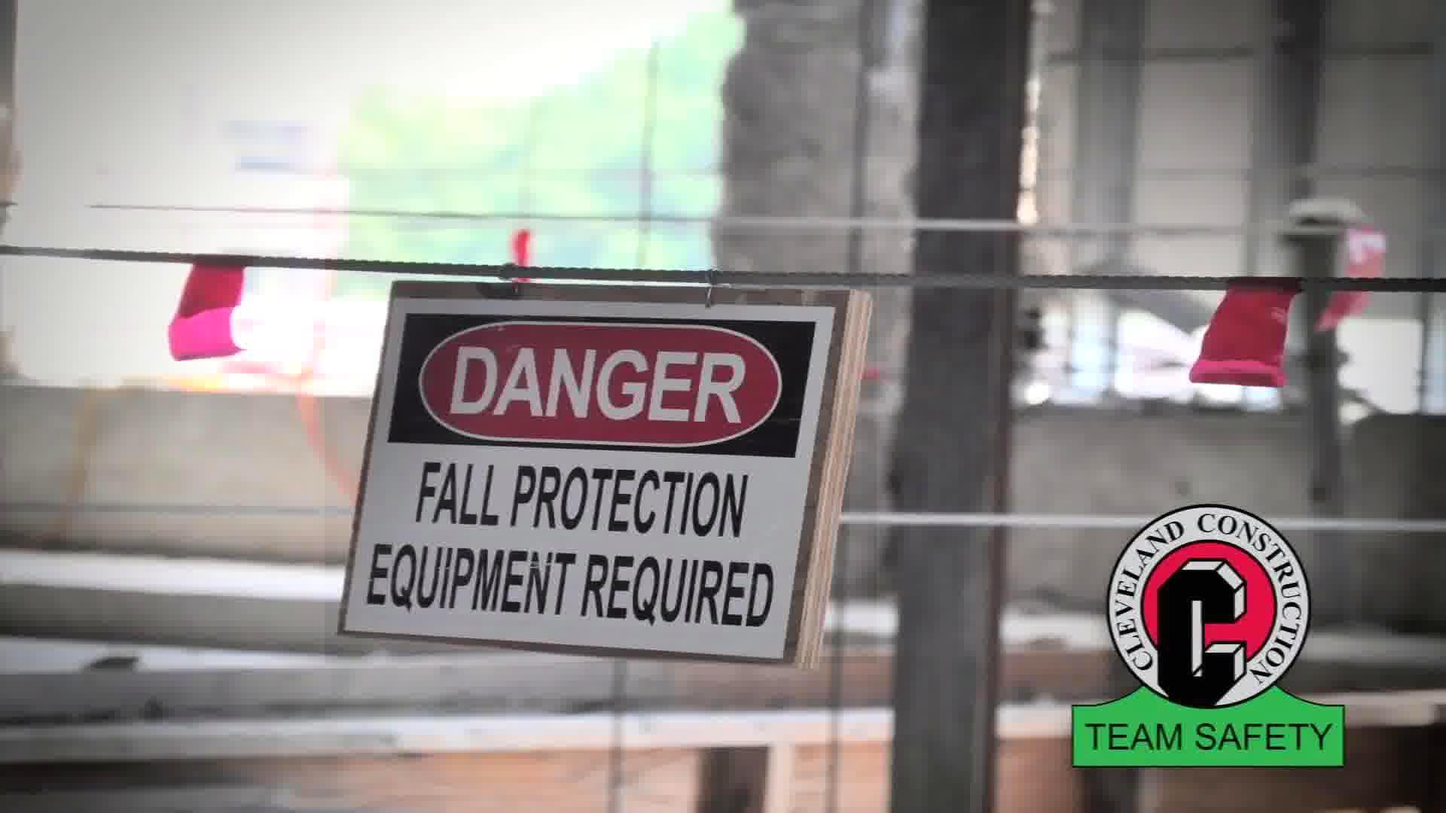safety_signage: (325, 235, 877, 663)
